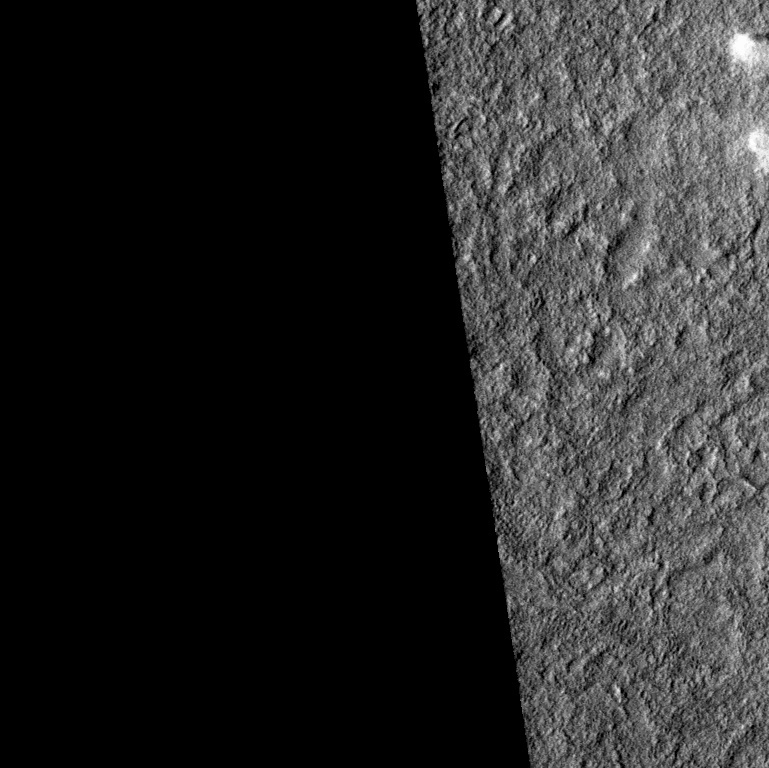dust_devil: (727, 29, 769, 68)
